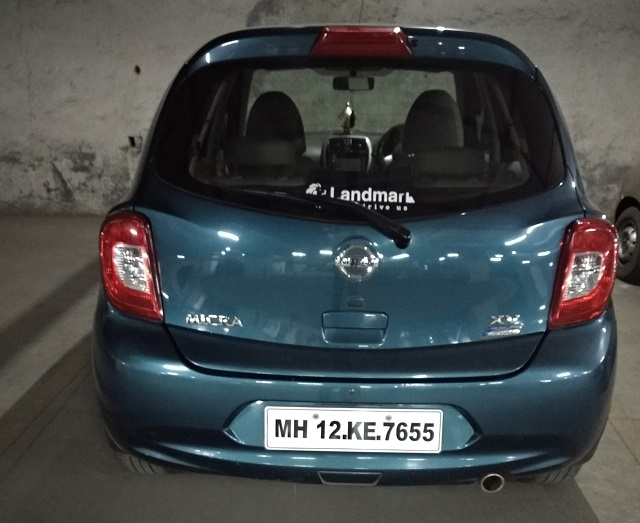licenseplate: (263, 404, 444, 457)
